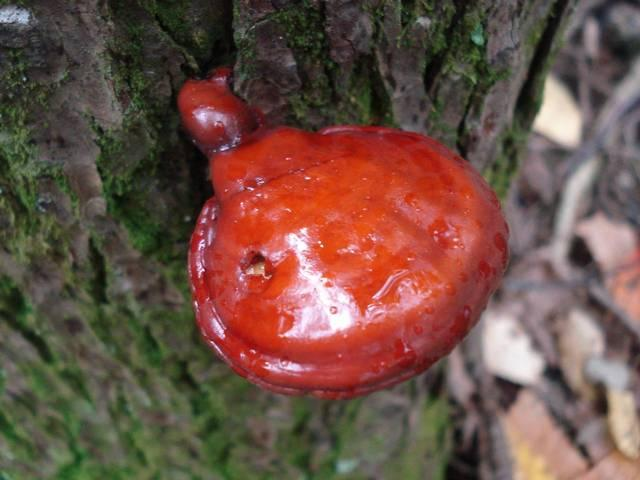Non-edible Mushroom: (176, 66, 512, 400)
